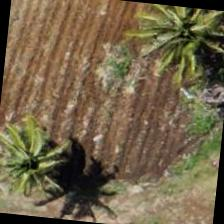Kelapa_Sawit: (0, 112, 85, 211), (137, 3, 223, 90)
